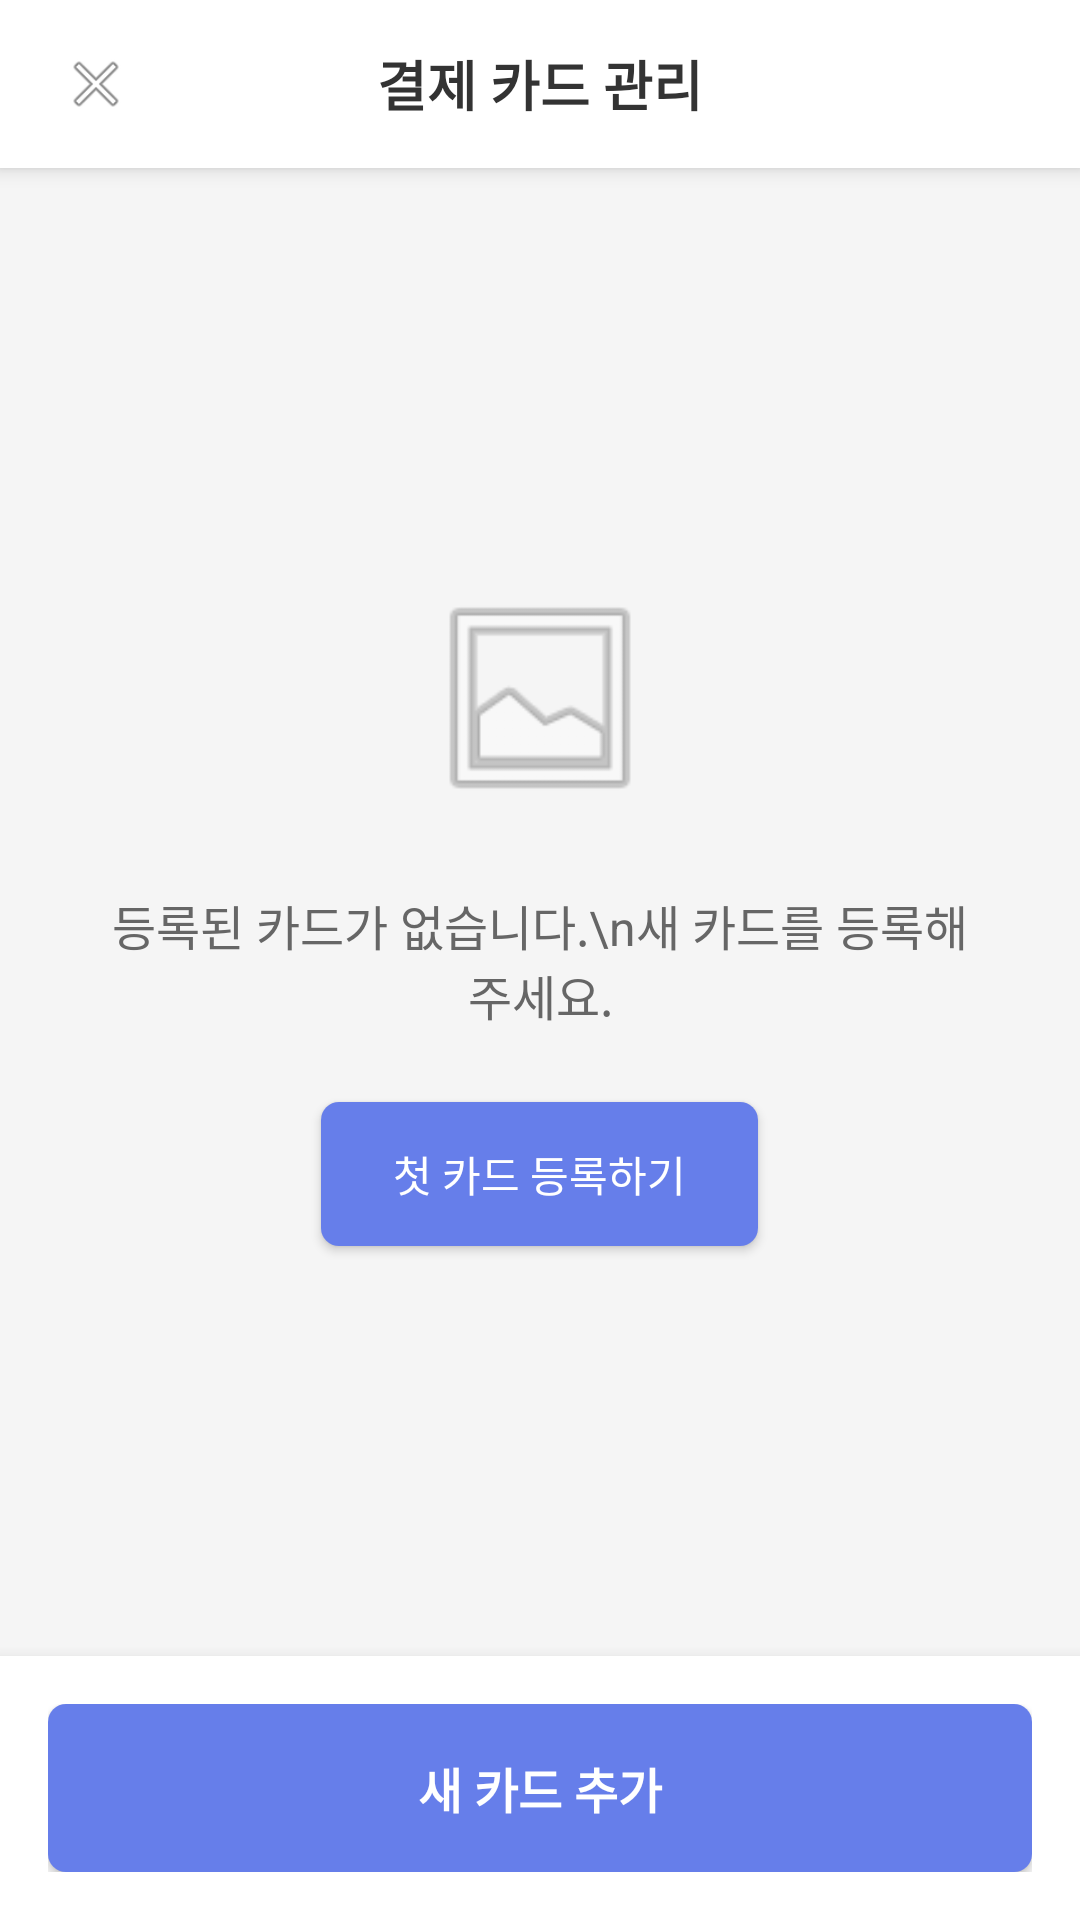

Screen size 1080 x 1920. Icon name, then its box in pixels as (x1, y1, x2, y2):
close clear cancel: (73, 61, 119, 107)
gallery: (450, 608, 630, 788)
